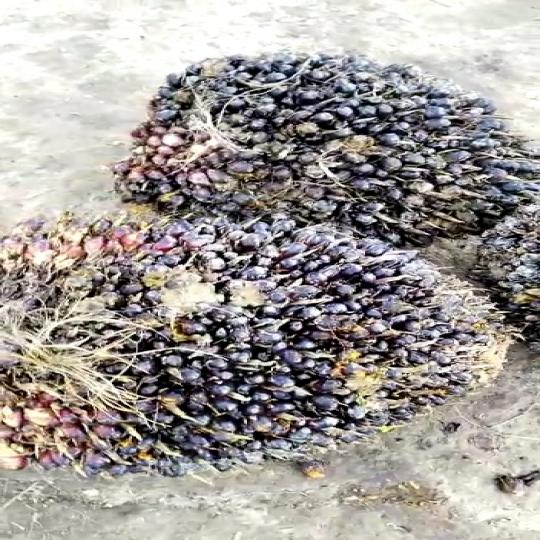mentah: (0, 210, 516, 481), (130, 48, 540, 238)
